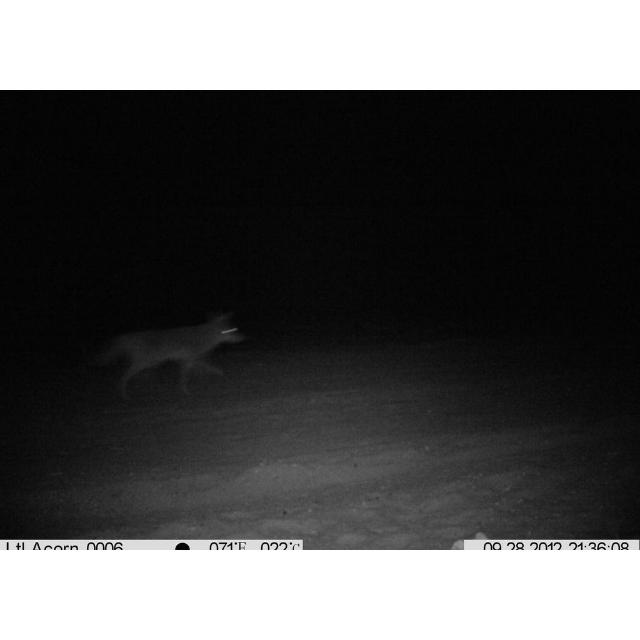animals: (100, 306, 250, 396)
